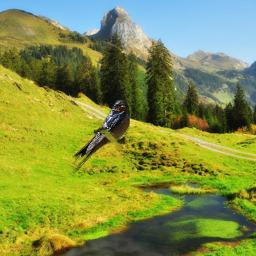Swallow: (72, 100, 130, 174)
